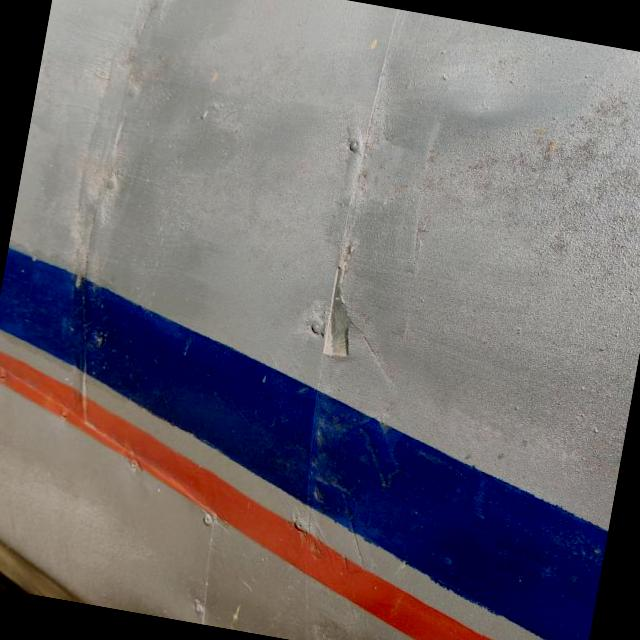paint-off: (275, 244, 386, 378)
